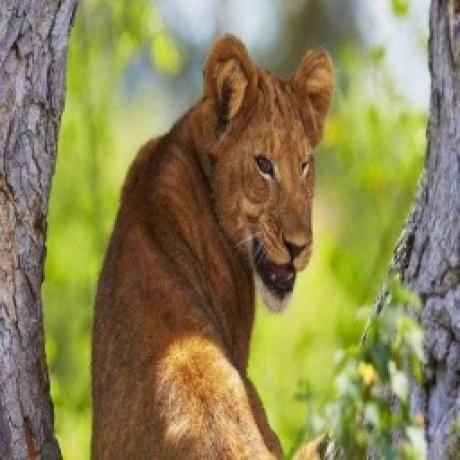Lion: (88, 30, 336, 460)
